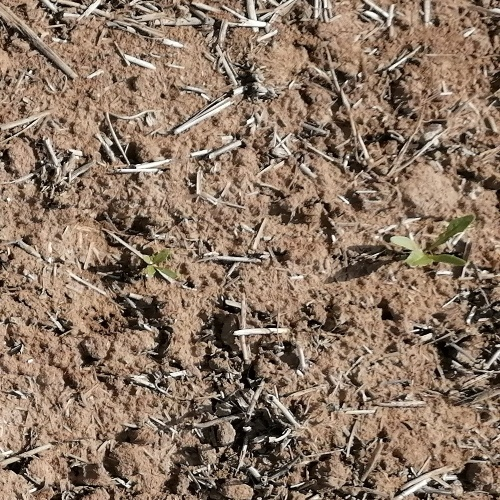beet: (391, 215, 476, 267), (142, 247, 183, 282)
